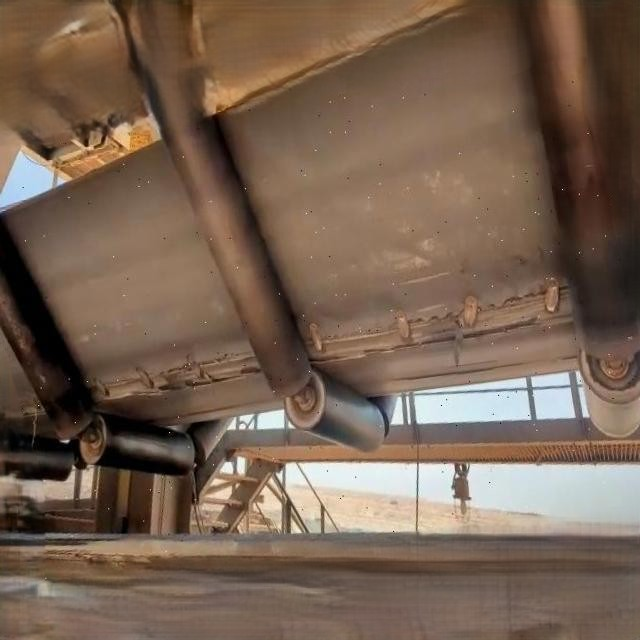Tear: (303, 268, 576, 374), (89, 338, 263, 416)
